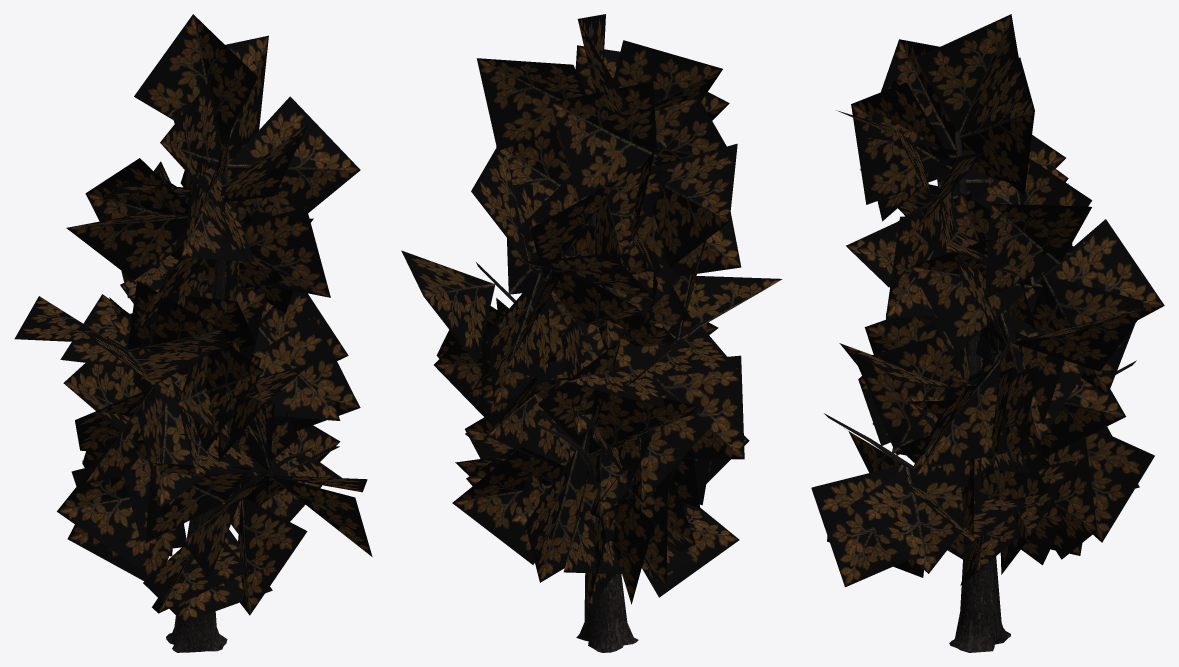
The model's file is tree_6.glb.
3 renders of one model, left to right at view 1: azimuth 30°, elevation 25°; view 2: azimuth 150°, elevation 25°; view 3: azimuth 270°, elevation 25°, orthographic. The views are drawn at different scales.
Visible parts, largest first — view 1: tree_6_leaves, tree_6; view 2: tree_6_leaves, tree_6; view 3: tree_6_leaves, tree_6.
Boxes of the visible parts, <box> form: tree_6_leaves: <box>14,14,372,622</box>; tree_6: <box>105,143,312,652</box>; tree_6_leaves: <box>401,14,782,613</box>; tree_6: <box>476,130,714,652</box>; tree_6_leaves: <box>811,14,1164,587</box>; tree_6: <box>824,131,1136,652</box>.
Size of the model in its own units: 3.25 by 6.06 by 3.07.
Materials: 2 (2 with a texture image).
